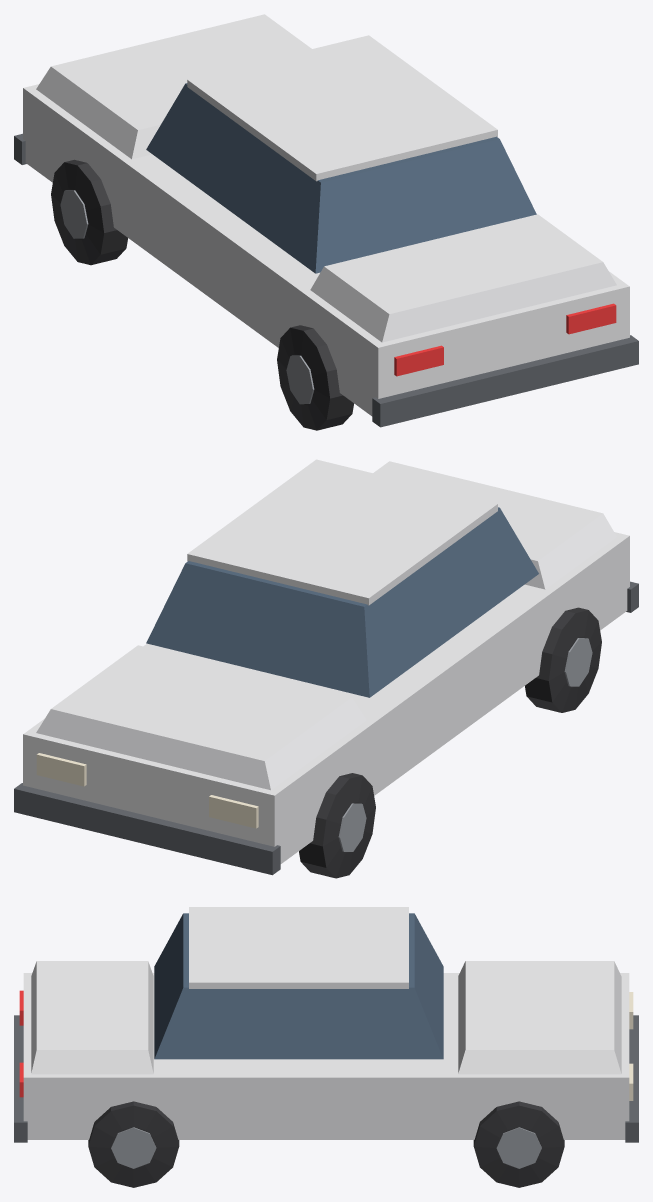
File: Car_white.obj
3 views of the same model, one above another, from view 1: azimuth 30°, elevation 25°; view 2: azimuth 150°, elevation 25°; view 3: azimuth 270°, elevation 25° (orthographic). The views are drawn at different scales.
Visible parts, largest first — view 1: Car_white; view 2: Car_white; view 3: Car_white.
Part boxes in pixels (x1=…): Car_white: x1=14, y1=14, x2=638, y2=430; Car_white: x1=14, y1=459, x2=638, y2=878; Car_white: x1=14, y1=907, x2=638, y2=1187.
Size of the model in its own units: 2 by 1.5 by 4.54.
Materials: 1 (1 with a texture image).
